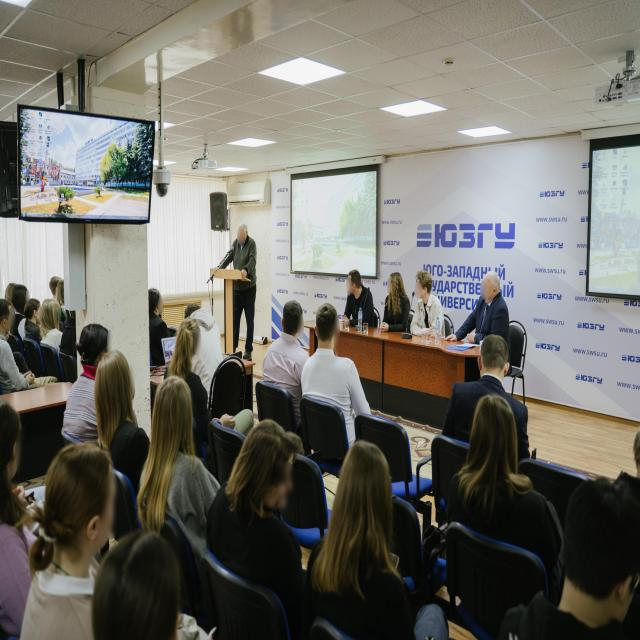Person: (221, 422, 316, 608), (78, 523, 204, 640), (136, 355, 213, 545), (40, 445, 113, 640), (334, 435, 406, 630), (454, 401, 540, 559), (0, 395, 36, 640), (92, 346, 150, 482), (306, 300, 367, 427), (456, 331, 514, 441), (264, 298, 312, 416), (464, 261, 518, 358), (221, 220, 259, 354), (0, 300, 32, 406), (146, 281, 172, 377), (173, 312, 205, 388), (341, 260, 373, 332), (382, 266, 416, 333), (413, 270, 442, 343), (38, 295, 64, 367), (22, 297, 52, 355), (12, 280, 34, 336)
